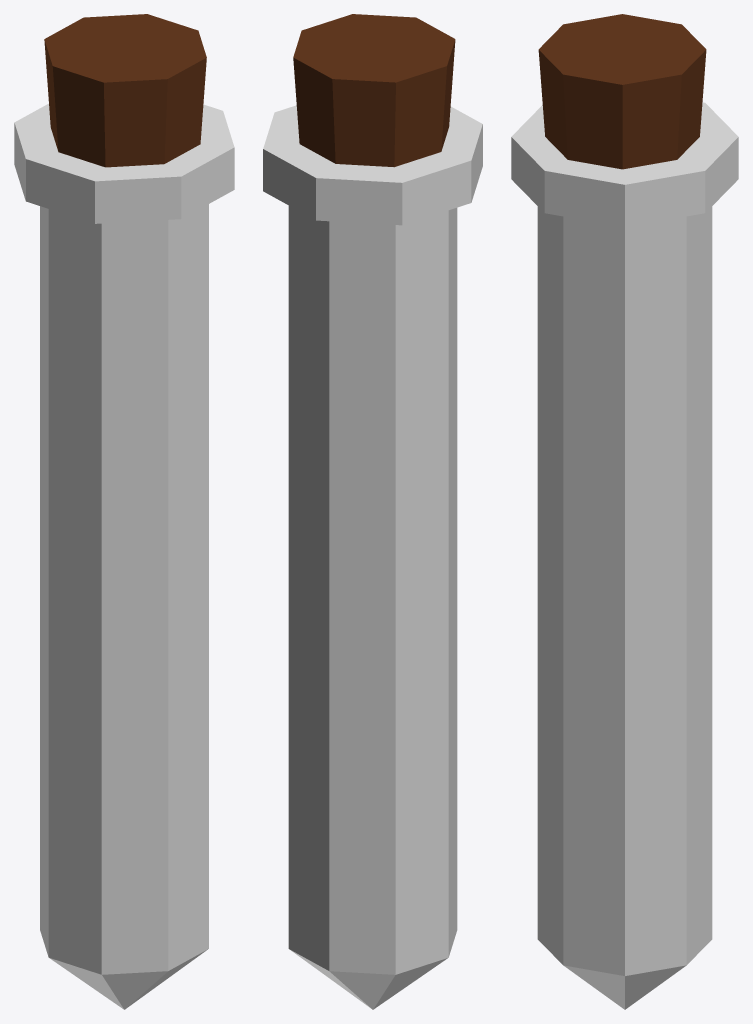
Rendered from potion3.glb.
The picture shows the model from 3 angles, left to right: view 1: azimuth 30°, elevation 25°; view 2: azimuth 150°, elevation 25°; view 3: azimuth 270°, elevation 25°; orthographic projection.
Visible parts, largest first — view 1: Cylinder.003, Cylinder.005; view 2: Cylinder.003, Cylinder.005; view 3: Cylinder.003, Cylinder.005.
Part boxes in pixels (<box>): Cylinder.003: <box>14,103,234,1009</box>; Cylinder.005: <box>44,14,206,167</box>; Cylinder.003: <box>263,105,482,1009</box>; Cylinder.005: <box>293,14,455,167</box>; Cylinder.003: <box>511,102,738,1009</box>; Cylinder.005: <box>538,14,706,169</box>.
Bounding box in the file's own units: 0.728 × 3.39 × 0.728.
